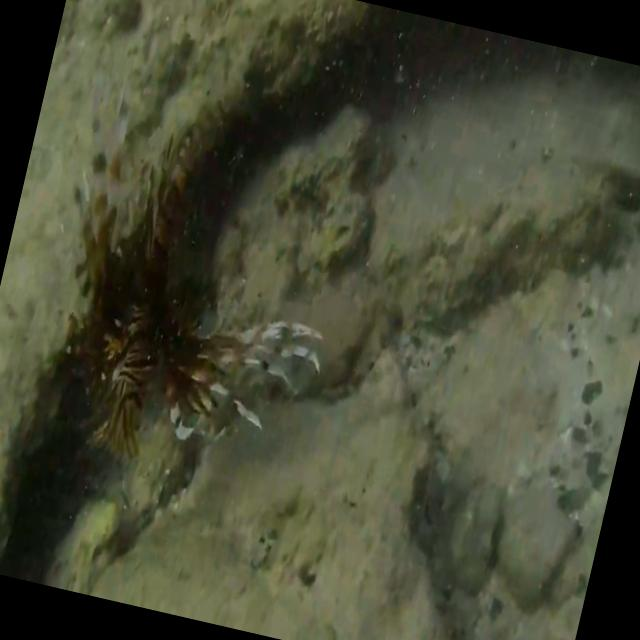Aslan Baligi: (0, 47, 383, 503)
